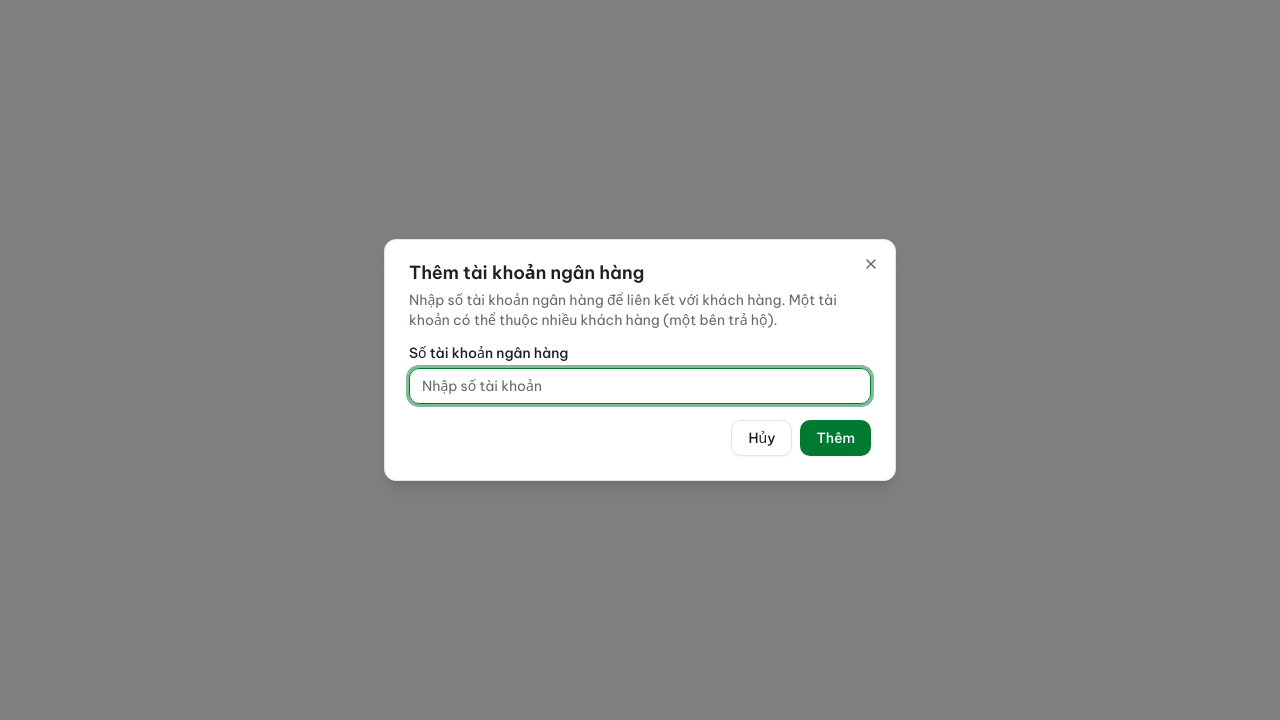
Test: CustomerBankAccountDialog › requires an account number when creating
Click the button "Thêm": click(836, 438) x1=800 y1=420 x2=871 y2=456
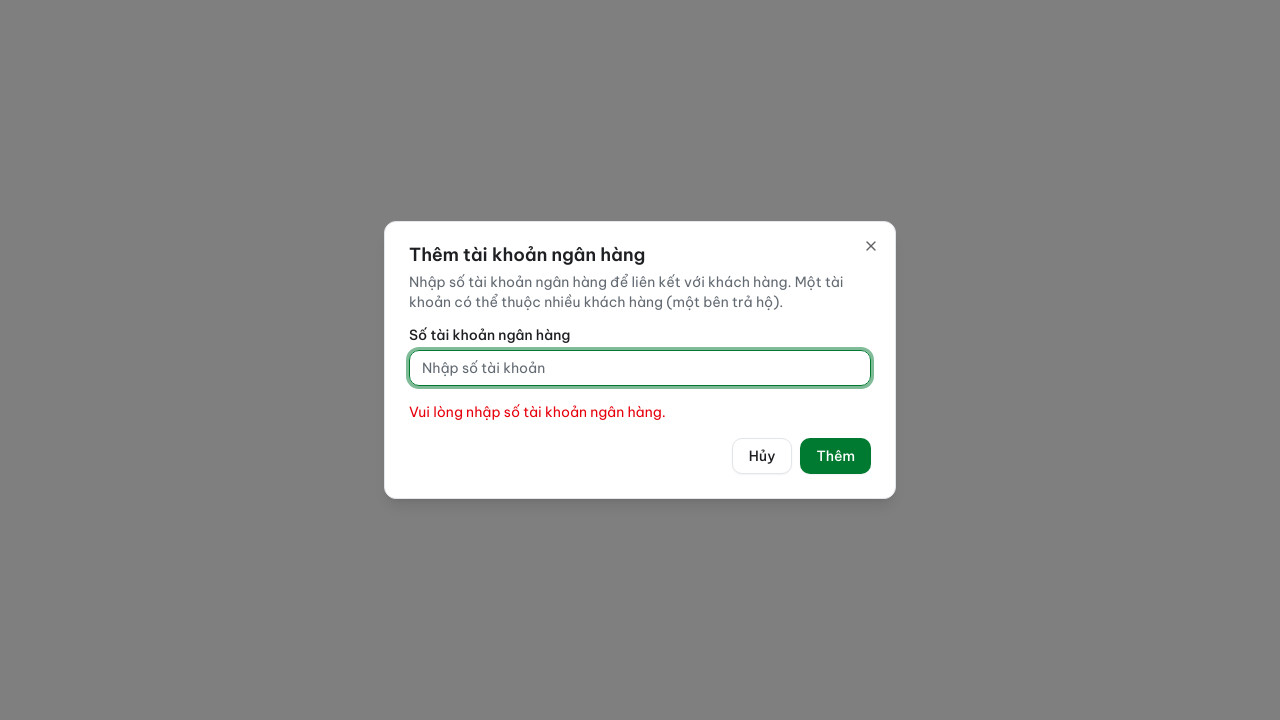
Expected: the message reads "Vui lòng nhập số tài khoản ngân hàng.", x1=409 y1=403 x2=666 y2=421
